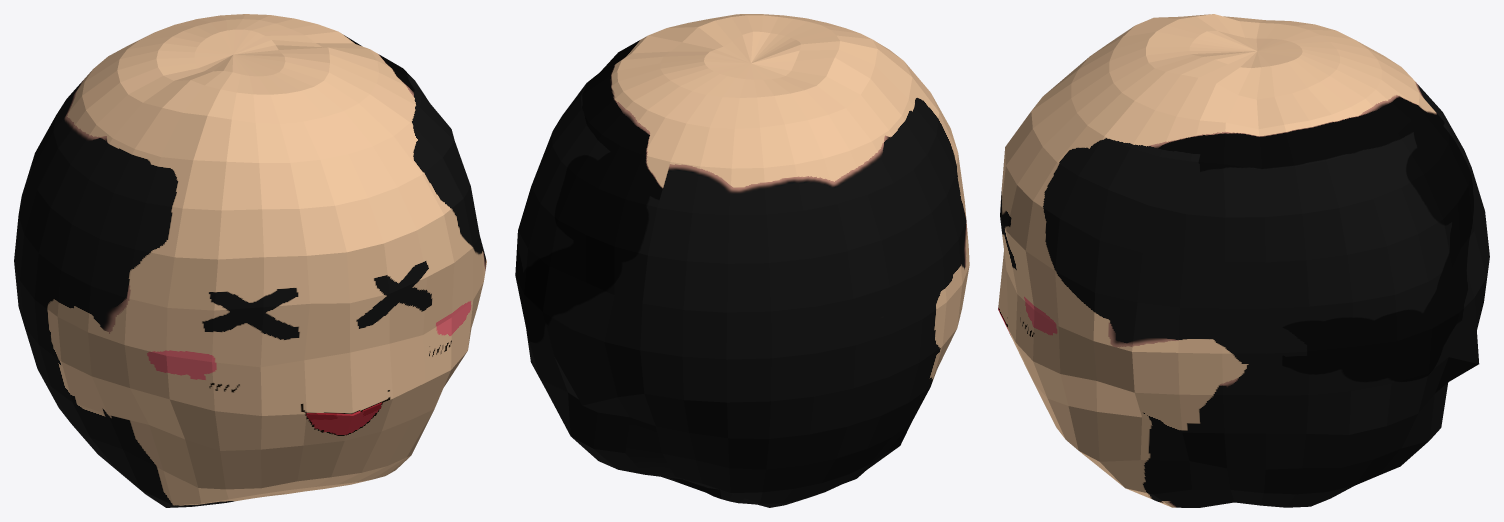
Rendered from playerDead.obj.
3 views of the same model, side by side, from view 1: azimuth 30°, elevation 25°; view 2: azimuth 150°, elevation 25°; view 3: azimuth 270°, elevation 25° (orthographic). The views are drawn at different scales.
Visible parts, largest first — view 1: 球; view 2: 球; view 3: 球.
Part boxes in pixels (box(x1,y1,x2,y2)): 球: box(14, 14, 486, 507); 球: box(515, 14, 969, 507); 球: box(998, 14, 1489, 507).
Size of the model in its own units: 0.9199 by 1.03 by 1.03.
